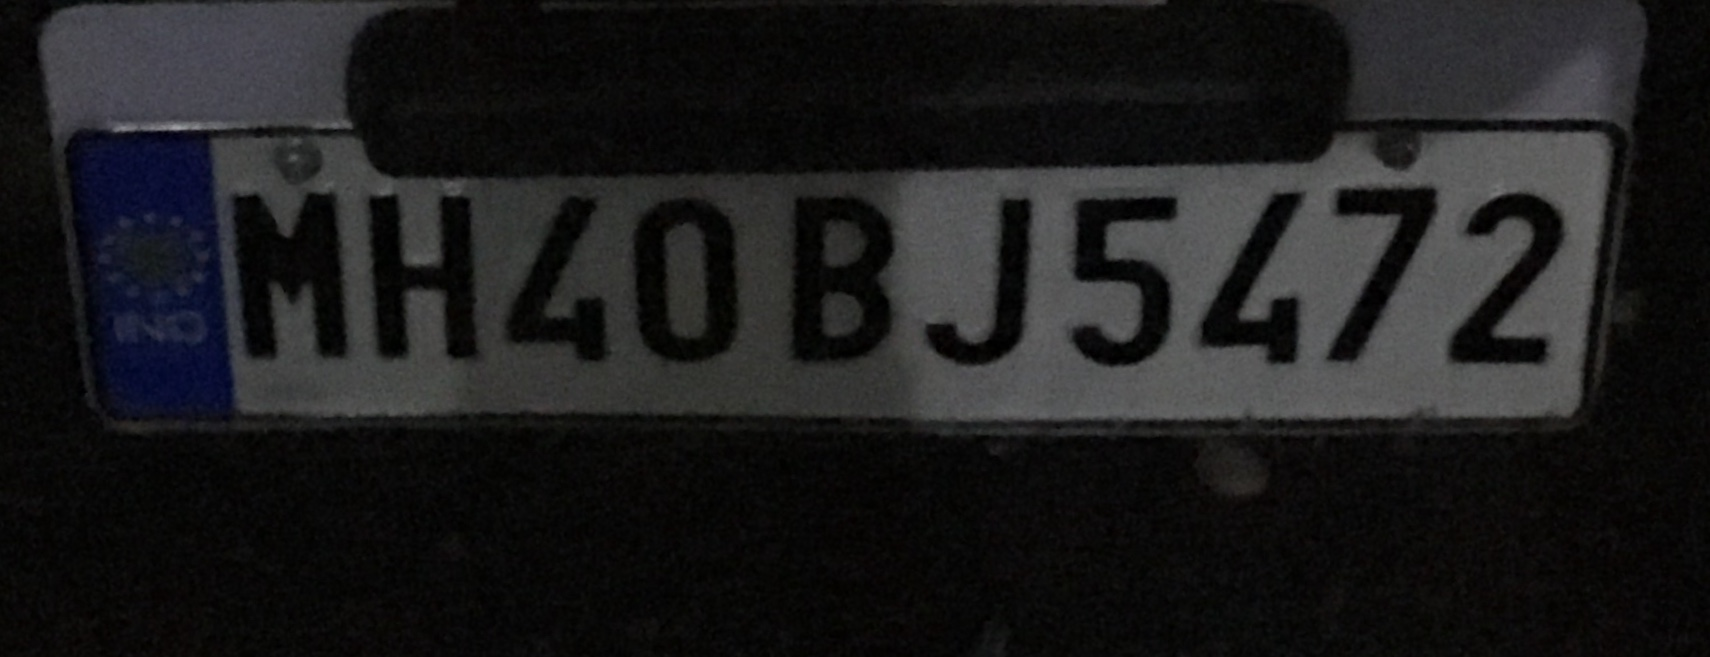numberplate: (61, 116, 1620, 441)
